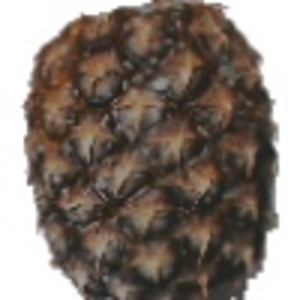abacaxi: (14, 4, 281, 299)
